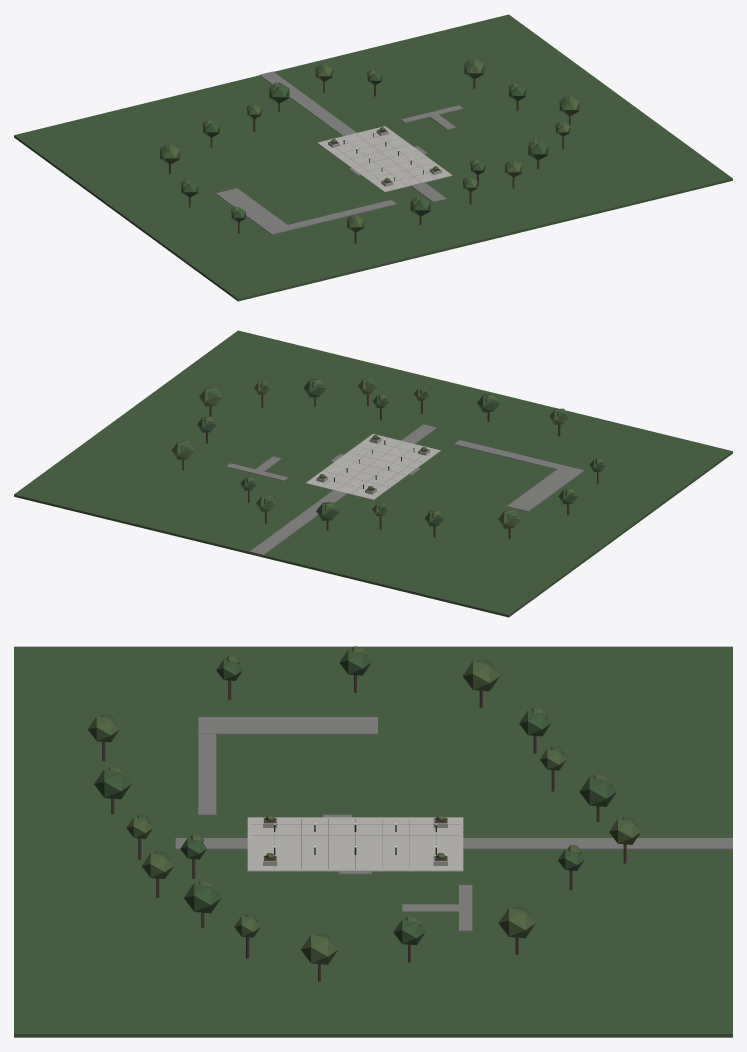
The model's file is campus_ground.glb.
The picture shows the model from 3 angles, top to bottom: view 1: azimuth 30°, elevation 25°; view 2: azimuth 150°, elevation 25°; view 3: azimuth 270°, elevation 25°; orthographic projection. The views are drawn at different scales.
Parts seen in each view (by area): view 1: Lawn_LOD0, Trees_LOD0, Plaza_LOD0, Paths_LOD0; view 2: Lawn_LOD0, Trees_LOD0, Plaza_LOD0, Paths_LOD0; view 3: Lawn_LOD0, Trees_LOD0, Plaza_LOD0, Paths_LOD0, Planters_LOD0.
Boxes of the visible parts, box(x1,y1,x2,y2) form: Lawn_LOD0: box(14, 14, 732, 301); Trees_LOD0: box(160, 58, 579, 243); Plaza_LOD0: box(317, 126, 452, 192); Paths_LOD0: box(216, 71, 463, 234); Lawn_LOD0: box(14, 330, 732, 617); Trees_LOD0: box(171, 378, 605, 539); Plaza_LOD0: box(305, 434, 440, 499); Paths_LOD0: box(226, 424, 584, 557); Lawn_LOD0: box(14, 646, 732, 1037); Trees_LOD0: box(87, 646, 640, 981); Plaza_LOD0: box(247, 817, 463, 871); Paths_LOD0: box(175, 717, 732, 931); Planters_LOD0: box(263, 815, 447, 865).
Bounding box in the file's own units: 102 × 5.91 × 80.
